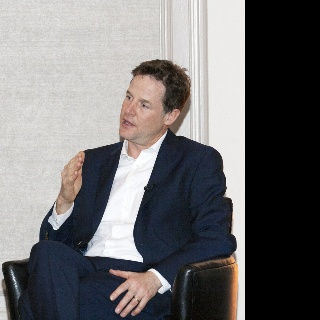without_mask: (119, 73, 166, 137)
